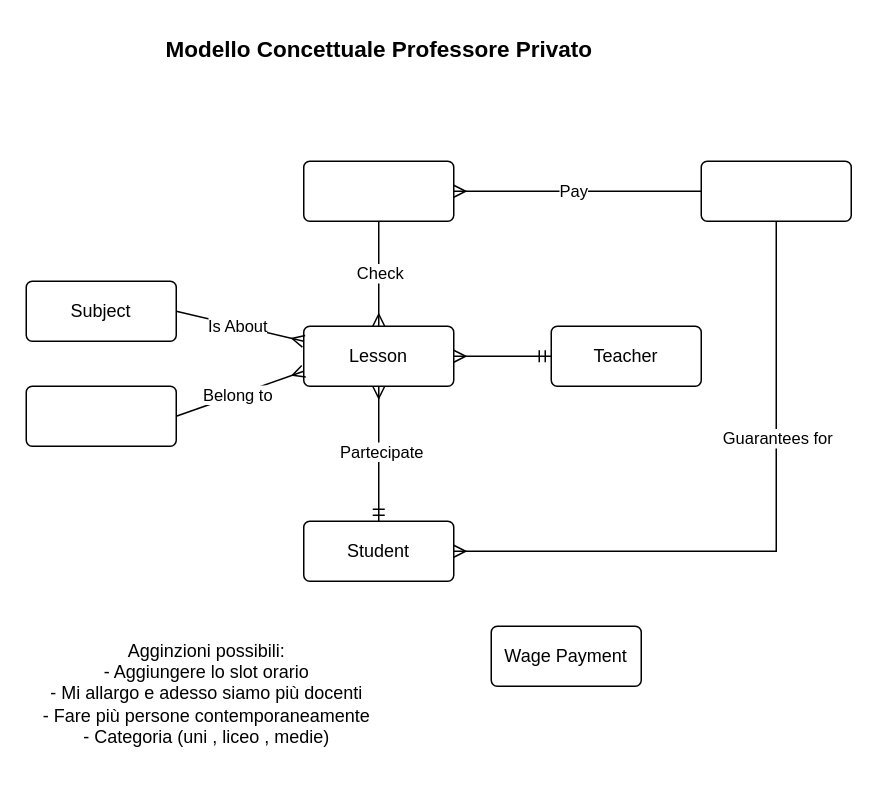
This 878x786 diagram has some shape labels left out. Here are the shapes that lost their labels. From the top down, the centre of each, then its label:
At point 378,190: "Payment".
At point 775,190: "Payer".
At point 100,415: "Category".
